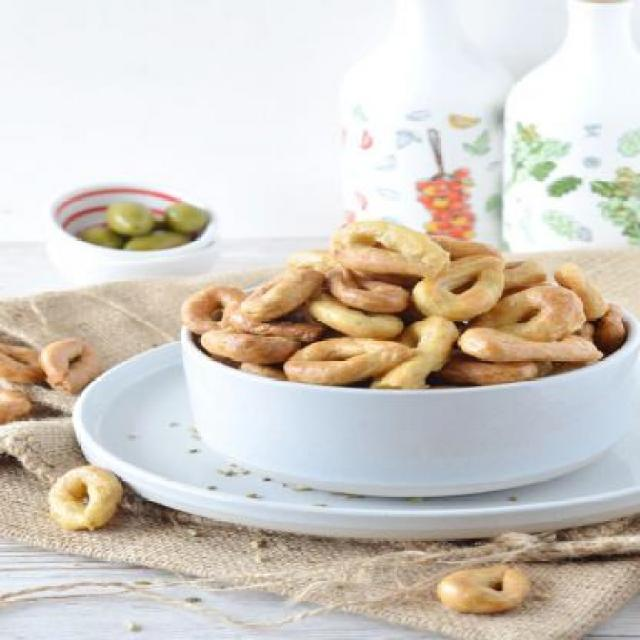Taralli: (183, 219, 619, 383), (2, 336, 94, 394), (434, 561, 534, 613), (48, 466, 124, 532)
